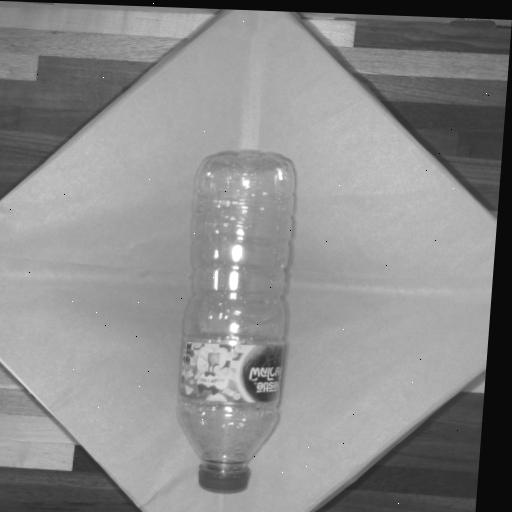bottle: (179, 154, 294, 489)
